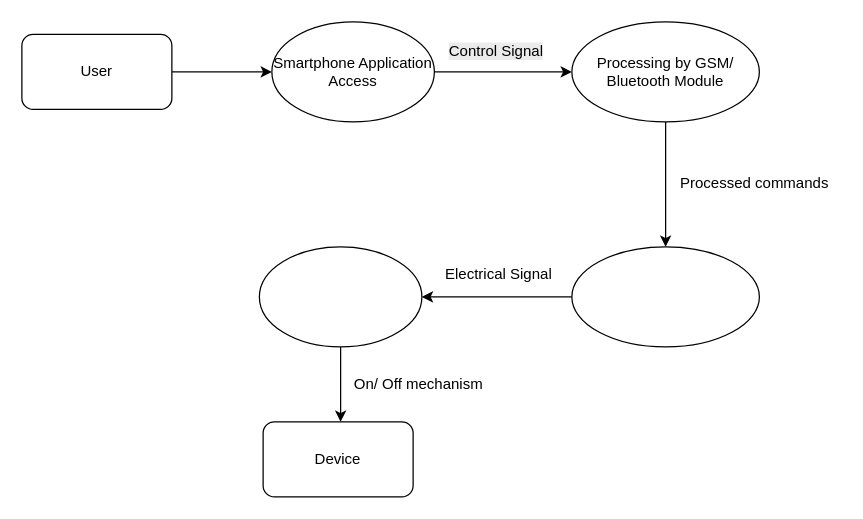
The diagram is 863 pixels wide and 519 high, and some of its shapes have lost their labels. The box of each missing label's shape, as (x1, y1, x2, y2) in pixels:
Processing by Microcontroller: (571, 246, 759, 347)
Switching action by relay: (258, 246, 422, 347)
